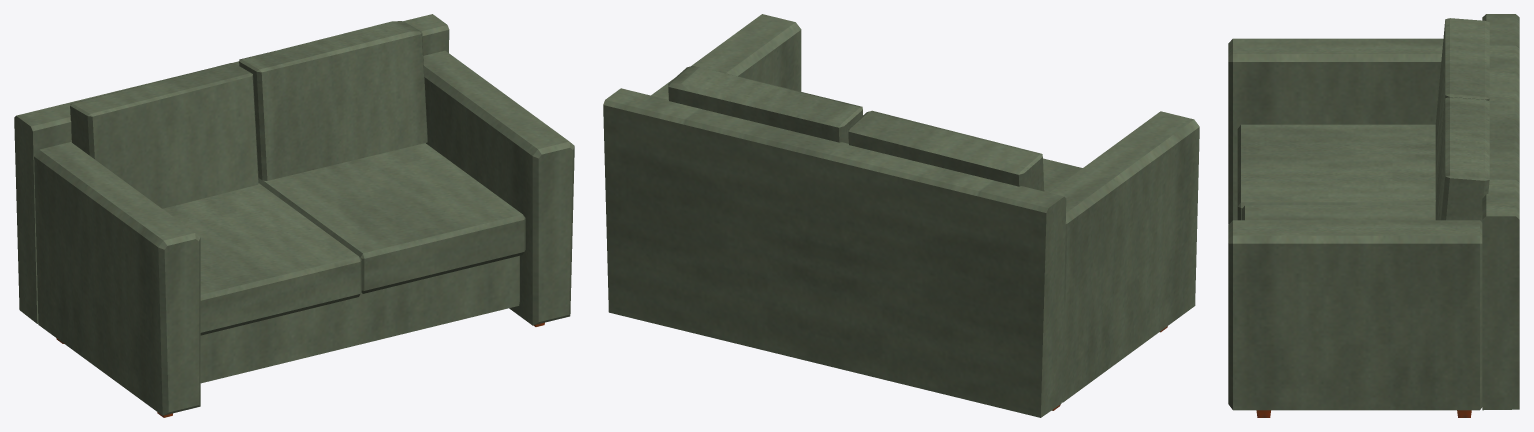
File: couch_green.obj
The picture shows the model from 3 angles, left to right: view 1: azimuth 30°, elevation 25°; view 2: azimuth 150°, elevation 25°; view 3: azimuth 270°, elevation 25°; orthographic projection. The views are drawn at different scales.
Visible parts, largest first — view 1: couch_green; view 2: couch_green; view 3: couch_green.
Boxes of the visible parts, <box> form: couch_green: <box>14,14,574,417</box>; couch_green: <box>603,14,1199,417</box>; couch_green: <box>1228,14,1519,417</box>.
Bounding box in the file's own units: 2.24 × 1.19 × 1.36.
